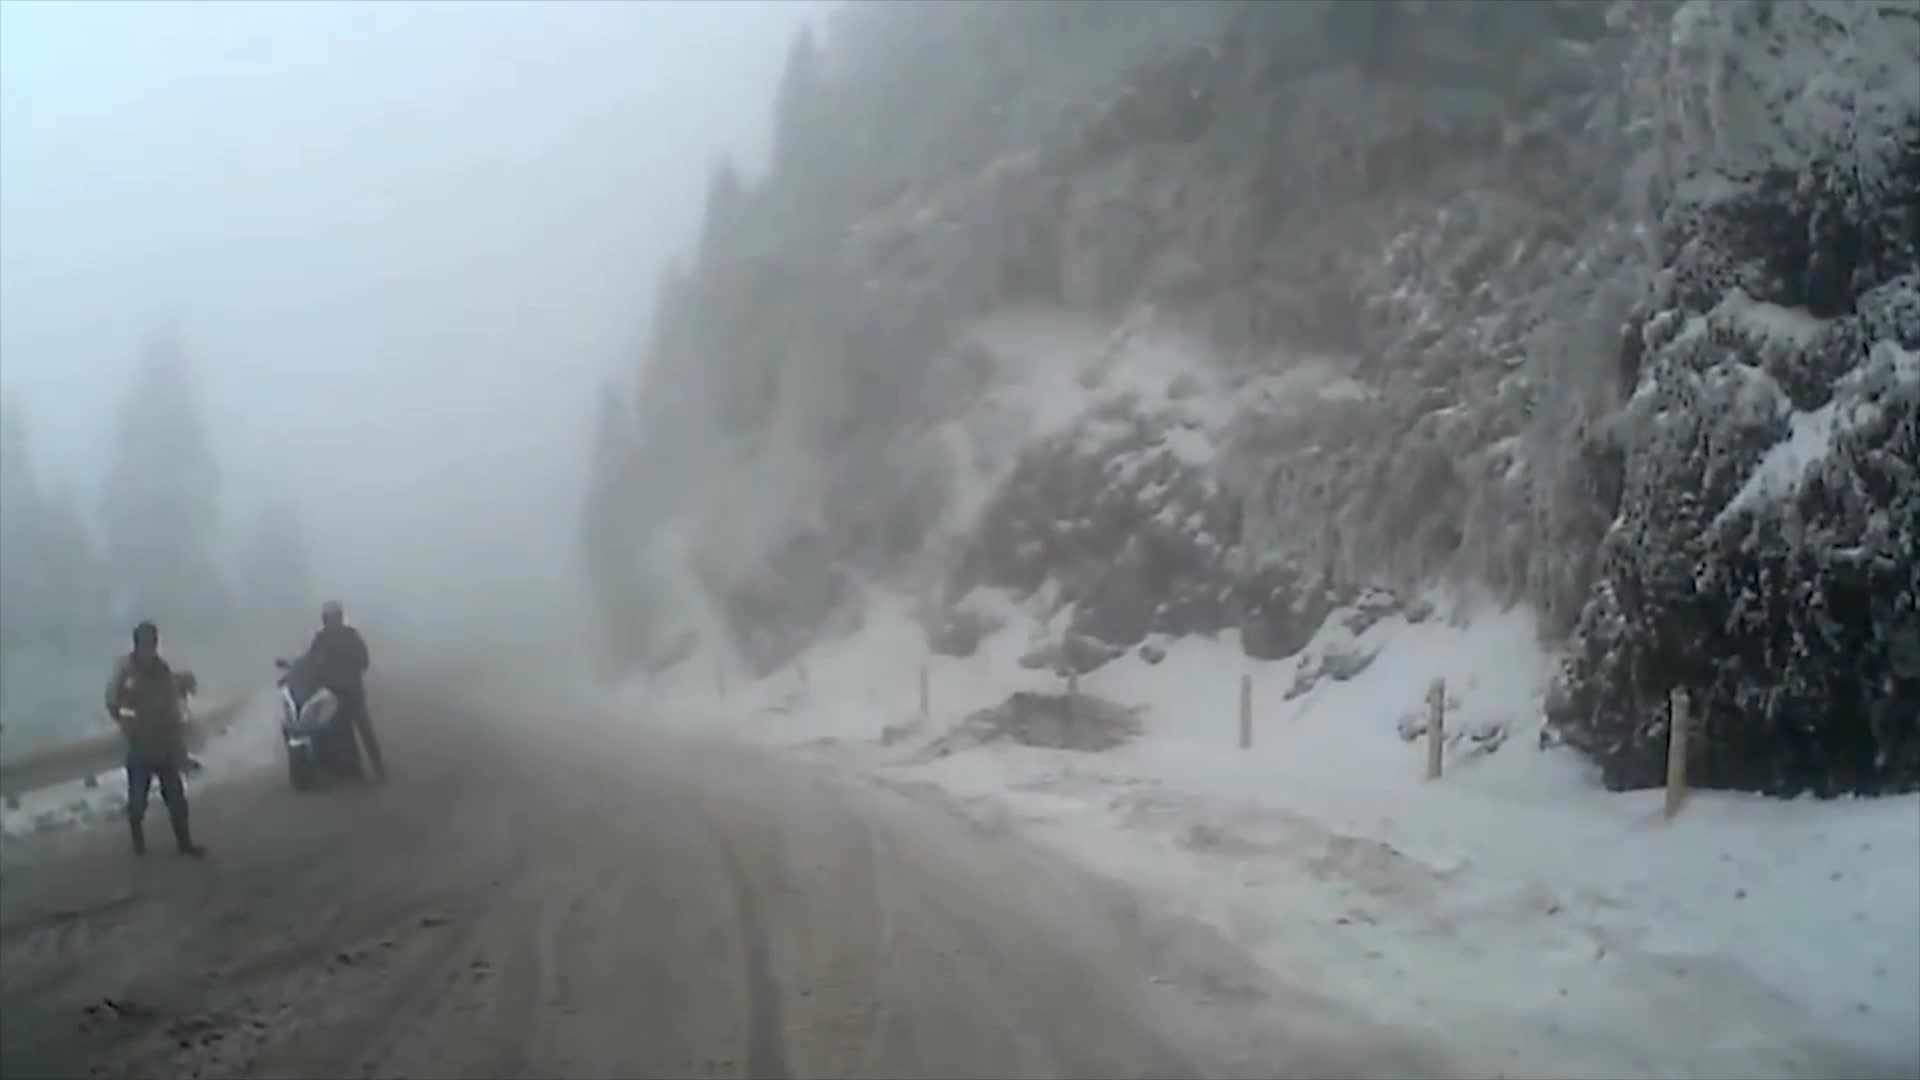pedestrian: (106, 624, 211, 860), (294, 598, 396, 797)
